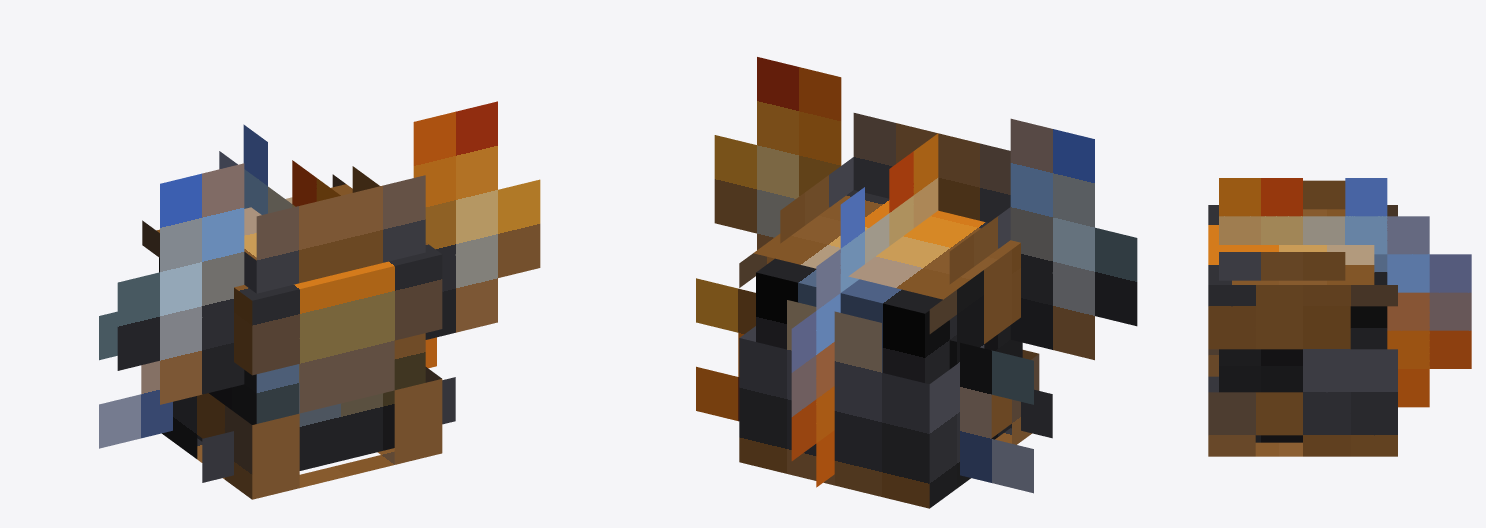
Rendered from sl_mixed_fire_armor_helmet.glb.
3 renders of one model, left to right at view 1: azimuth 30°, elevation 25°; view 2: azimuth 150°, elevation 25°; view 3: azimuth 270°, elevation 25°, orthographic. The views are drawn at different scales.
Parts seen in each view (by area): view 1: bb_mixed_fire_armor_helmet; view 2: bb_mixed_fire_armor_helmet; view 3: bb_mixed_fire_armor_helmet.
Boxes of the visible parts, left/top/right/bottom form: bb_mixed_fire_armor_helmet: left=99, top=101, right=540, bottom=499; bb_mixed_fire_armor_helmet: left=696, top=57, right=1137, bottom=508; bb_mixed_fire_armor_helmet: left=1208, top=178, right=1471, bottom=456.
Size of the model in its own units: 1.5 by 1.03 by 0.7812.
Materials: 1 (1 with a texture image).
